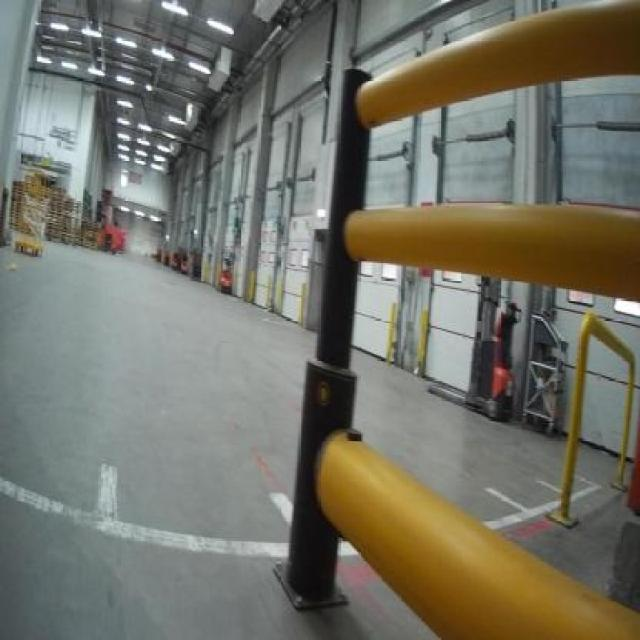floor: (0, 242, 434, 637), (352, 349, 637, 588)
